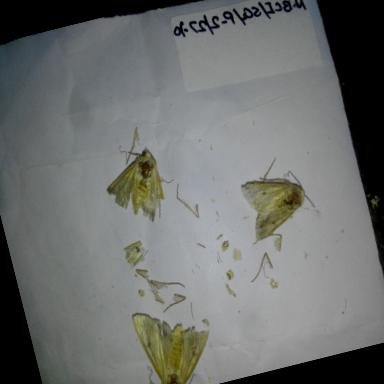abw: (118, 294, 221, 384), (88, 134, 174, 234), (231, 160, 322, 246)
